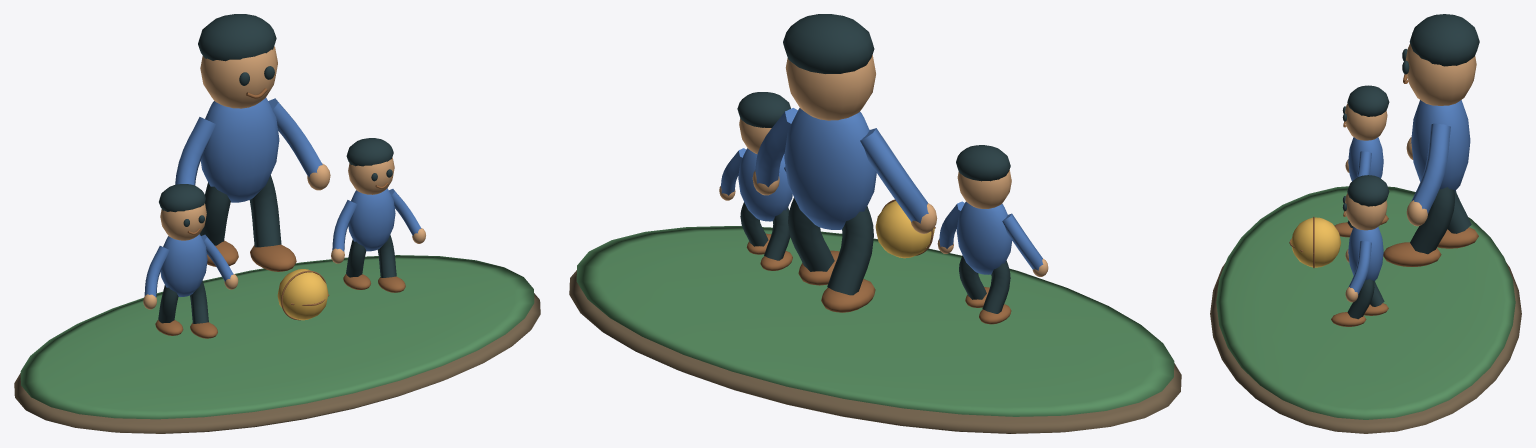
File: younger-brothers.glb
3 views of the same model, side by side, from view 1: azimuth 30°, elevation 25°; view 2: azimuth 150°, elevation 25°; view 3: azimuth 270°, elevation 25° (orthographic). The views are drawn at different scales.
Parts seen in each view (by area): view 1: younger-brothers_surface_01, younger-brothers_surface_05, younger-brothers_surface_03, younger-brothers_surface_00, younger-brothers_surface_02, younger-brothers_surface_04, younger-brothers_surface_06; view 2: younger-brothers_surface_01, younger-brothers_surface_05, younger-brothers_surface_03, younger-brothers_surface_00, younger-brothers_surface_02, younger-brothers_surface_04, younger-brothers_surface_06; view 3: younger-brothers_surface_01, younger-brothers_surface_03, younger-brothers_surface_05, younger-brothers_surface_00, younger-brothers_surface_02, younger-brothers_surface_04, younger-brothers_surface_06.
Part boxes in pixels (x1=…): younger-brothers_surface_01: x1=20, y1=255, x2=534, y2=419; younger-brothers_surface_05: x1=144, y1=98, x2=421, y2=297; younger-brothers_surface_03: x1=158, y1=14, x2=396, y2=323; younger-brothers_surface_00: x1=14, y1=293, x2=540, y2=433; younger-brothers_surface_02: x1=143, y1=46, x2=425, y2=309; younger-brothers_surface_04: x1=155, y1=88, x2=405, y2=338; younger-brothers_surface_06: x1=277, y1=269, x2=328, y2=320; younger-brothers_surface_01: x1=576, y1=226, x2=1174, y2=416; younger-brothers_surface_05: x1=721, y1=108, x2=1043, y2=274; younger-brothers_surface_03: x1=737, y1=14, x2=1010, y2=313; younger-brothers_surface_00: x1=569, y1=270, x2=1181, y2=433; younger-brothers_surface_02: x1=719, y1=55, x2=1048, y2=276; younger-brothers_surface_04: x1=746, y1=199, x2=1011, y2=324; younger-brothers_surface_06: x1=875, y1=201, x2=934, y2=258; younger-brothers_surface_01: x1=1216, y1=186, x2=1515, y2=419; younger-brothers_surface_03: x1=1342, y1=14, x2=1479, y2=319; younger-brothers_surface_05: x1=1348, y1=100, x2=1470, y2=294; younger-brothers_surface_00: x1=1210, y1=262, x2=1521, y2=433; younger-brothers_surface_02: x1=1345, y1=44, x2=1476, y2=302; younger-brothers_surface_04: x1=1289, y1=74, x2=1478, y2=326; younger-brothers_surface_06: x1=1291, y1=217, x2=1340, y2=267.
Size of the model in its own units: 4.56 by 2.74 by 2.5.
